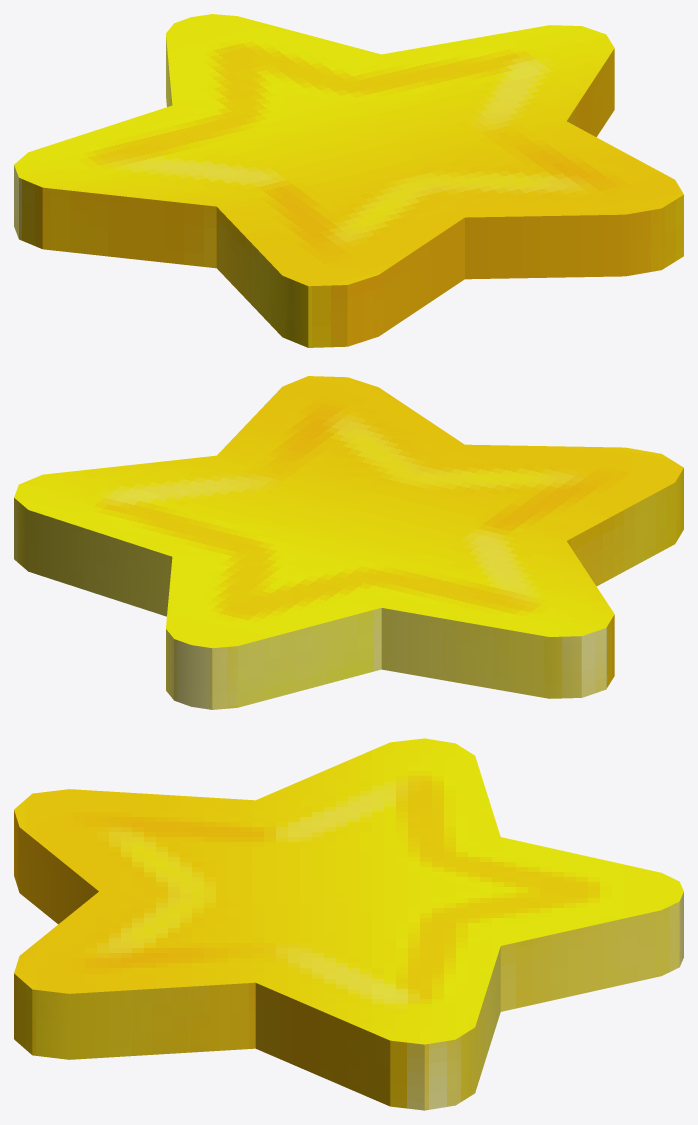
Rendered from items_star_b.FBX.
3 renders of one model, top to bottom at view 1: azimuth 30°, elevation 25°; view 2: azimuth 150°, elevation 25°; view 3: azimuth 270°, elevation 25°, orthographic. The views are drawn at different scales.
Visible parts, largest first — view 1: items_star_b; view 2: items_star_b; view 3: items_star_b.
Boxes of the visible parts, x1,y1,x2,y2 form: items_star_b: (14, 14, 683, 347); items_star_b: (14, 376, 683, 709); items_star_b: (14, 738, 683, 1110).
Bounding box in the file's own units: 83.51 × 8.39 × 77.22.
